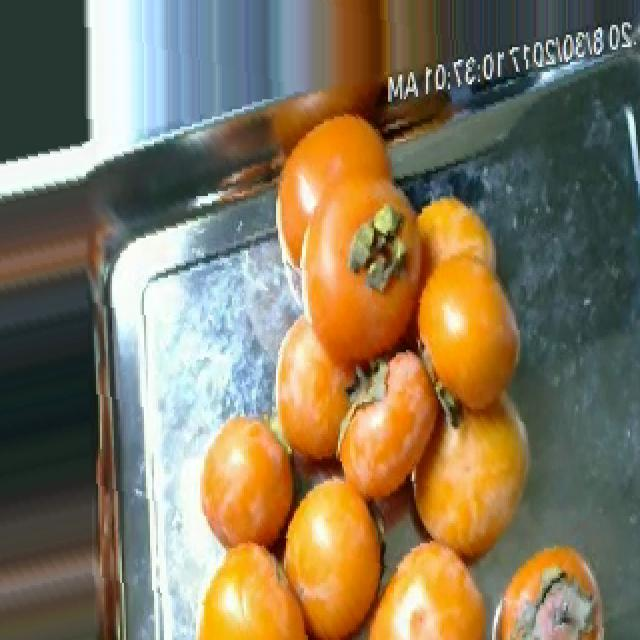Fruit: (368, 174, 536, 382), (188, 397, 296, 578), (490, 531, 620, 640)
